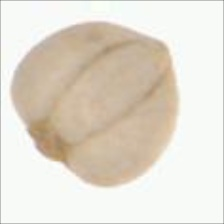L5: (54, 36, 173, 144), (24, 117, 73, 167), (143, 35, 178, 77)
L6: (7, 17, 181, 189)
